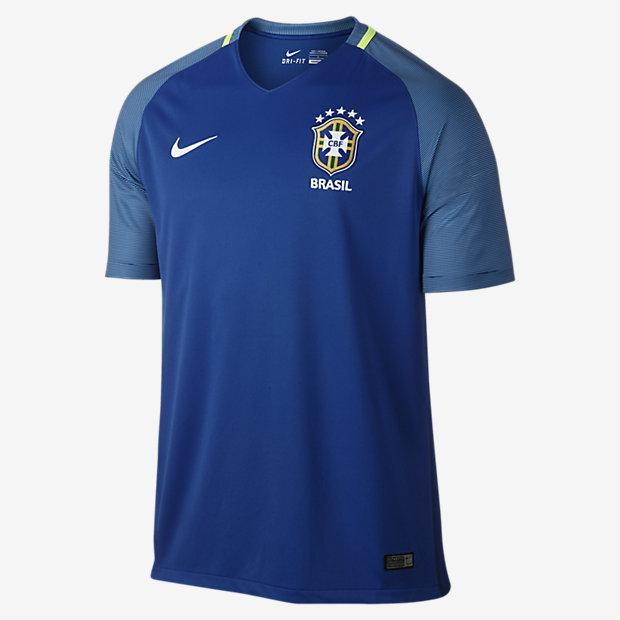teeshirt: (87, 5, 517, 620)
